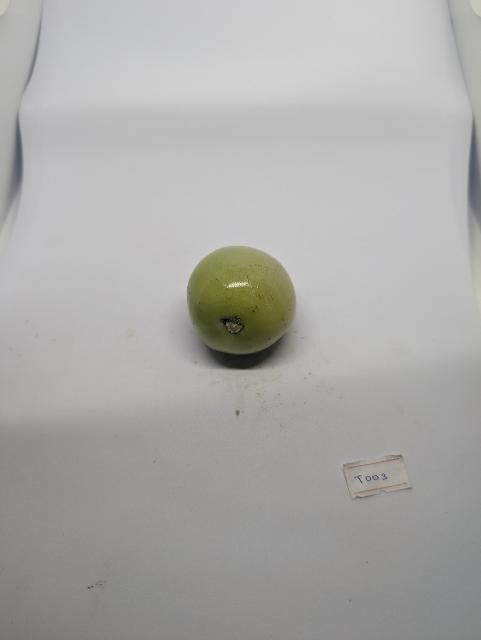green: (176, 230, 308, 368)
